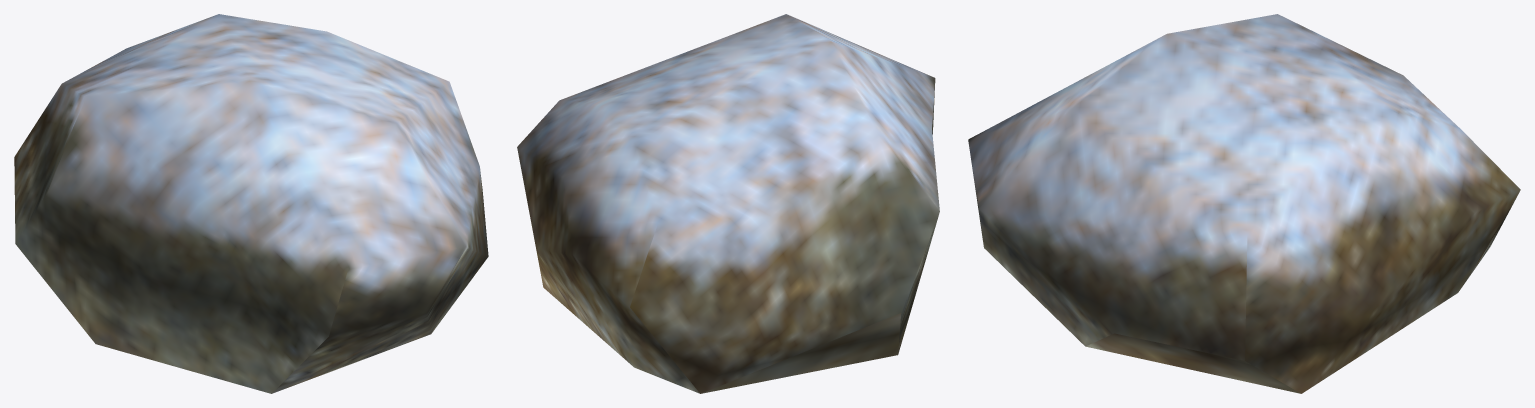
The model's file is SM_EN_2007_shitou07.FBX.
3 views of the same model, side by side, from view 1: azimuth 30°, elevation 25°; view 2: azimuth 150°, elevation 25°; view 3: azimuth 270°, elevation 25° (orthographic). The views are drawn at different scales.
Visible parts, largest first — view 1: SM_EN_2007_shitou07; view 2: SM_EN_2007_shitou07; view 3: SM_EN_2007_shitou07.
Boxes of the visible parts, box(x1,y1,x2,y2) form: SM_EN_2007_shitou07: box(14, 14, 488, 393); SM_EN_2007_shitou07: box(517, 14, 939, 393); SM_EN_2007_shitou07: box(968, 14, 1520, 393).
Bounding box in the file's own units: 46.16 × 28.57 × 53.1.
